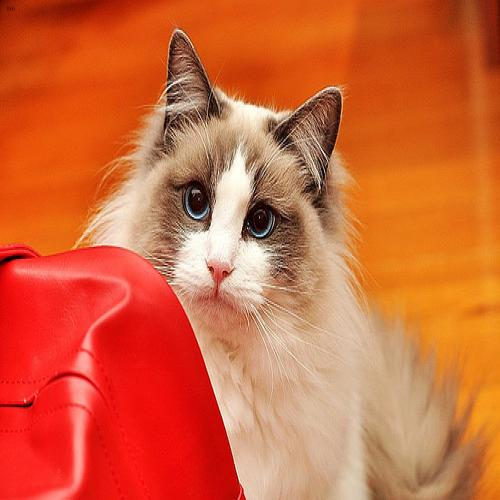ragdoll: (145, 21, 356, 350)
